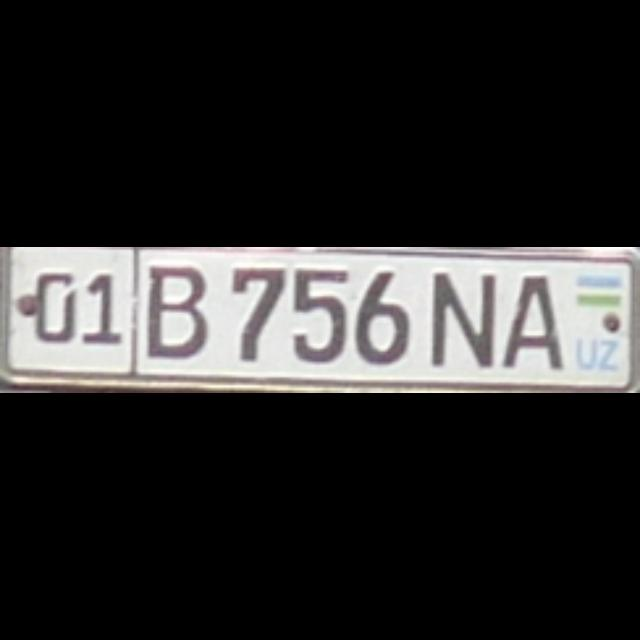0: (31, 268, 73, 338)
1: (82, 270, 120, 344)
5: (288, 266, 344, 360)
6: (354, 268, 404, 362)
7: (228, 262, 280, 360)
A: (501, 273, 559, 367)
B: (144, 260, 204, 354)
N: (427, 270, 493, 368)
